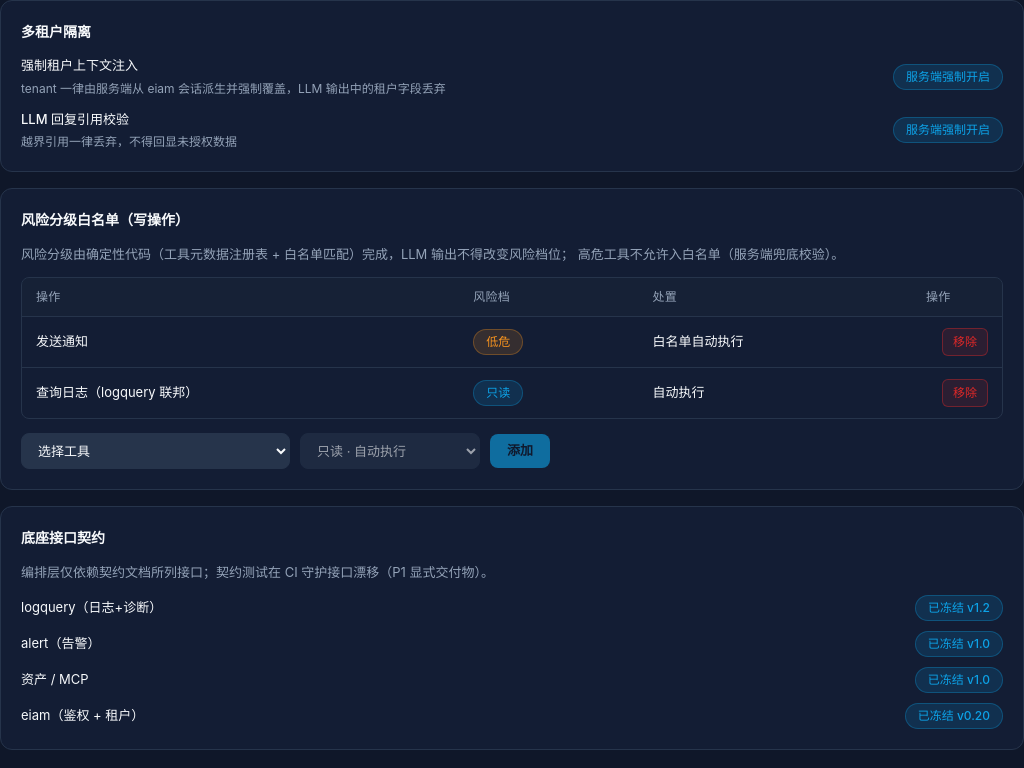
Scenario: SecurityTab 安全与租户（服务端强制项 + 白名单真实 CRUD） › 重复工具添加 → 内联错误，不触发 draft
This screenshot has width=1024, height=768.
Select "发送通知（低危）" in the dropdown named "选择工具" at {"x": 156, "y": 451}, box [21,433,290,469]
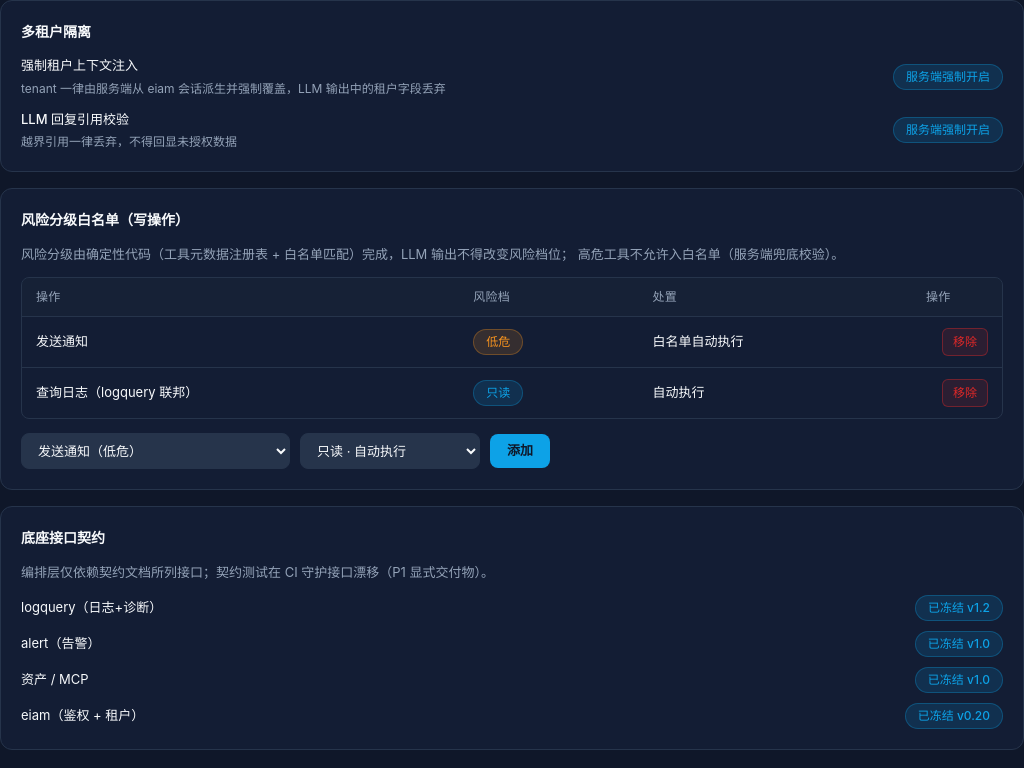
Click the button "添加" at {"x": 520, "y": 451}, box [490,434,550,468]
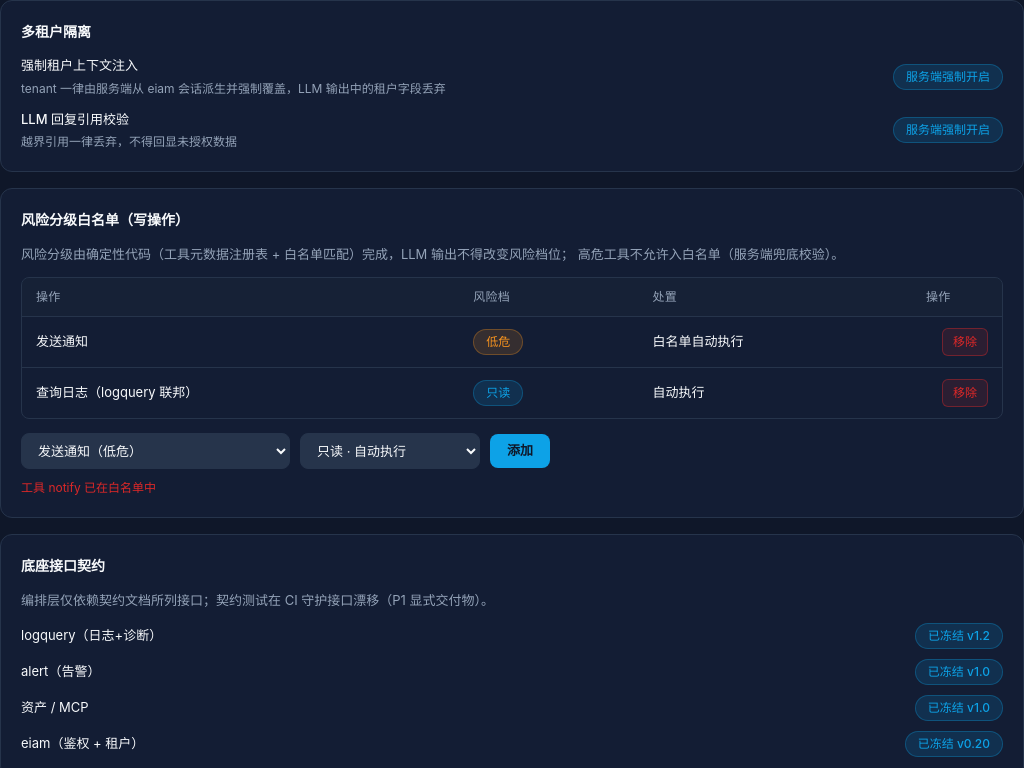
Expected: the message with class "whitelist-error" reads "工具 notify 已在白名单中", [21,480,156,495]
